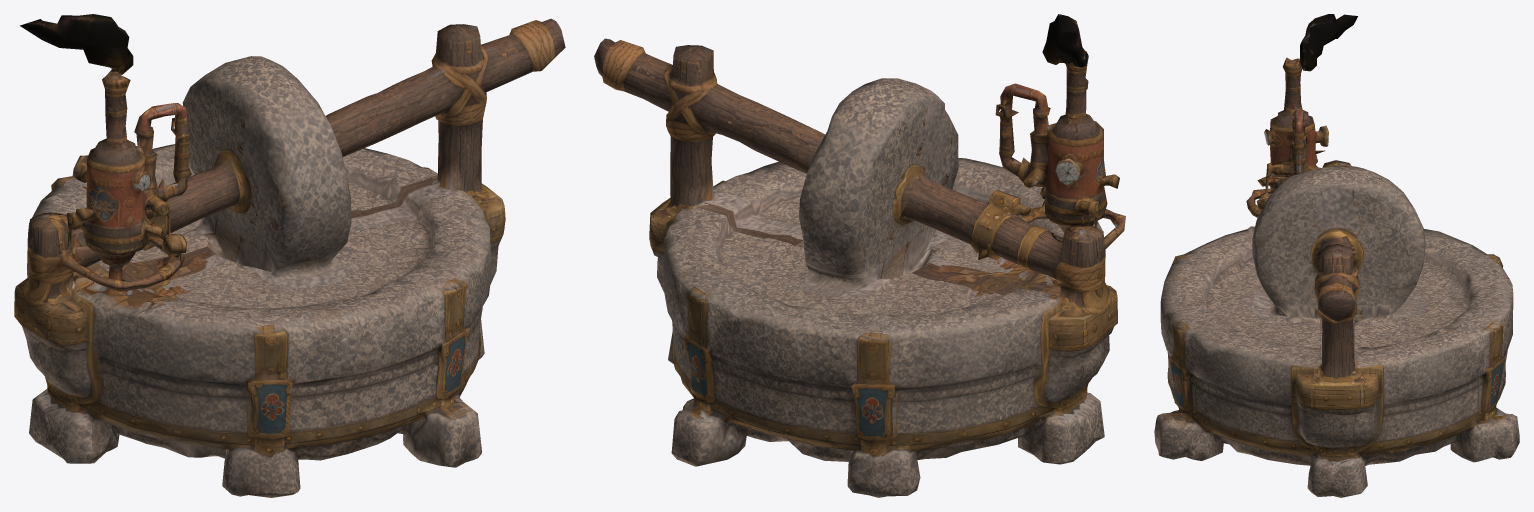
The model's file is PR_YeonjaMill.fbx.
3 views of the same model, side by side, from view 1: azimuth 30°, elevation 25°; view 2: azimuth 150°, elevation 25°; view 3: azimuth 270°, elevation 25° (orthographic). The views are drawn at different scales.
Visible parts, largest first — view 1: texture_mapping; view 2: texture_mapping; view 3: texture_mapping.
Boxes of the visible parts, left/top/right/bottom form: texture_mapping: left=14, top=14, right=565, bottom=497; texture_mapping: left=594, top=14, right=1125, bottom=497; texture_mapping: left=1154, top=14, right=1519, bottom=497.
Size of the model in its own units: 1 by 0.7887 by 0.8002.
1 material, 1 textured.
